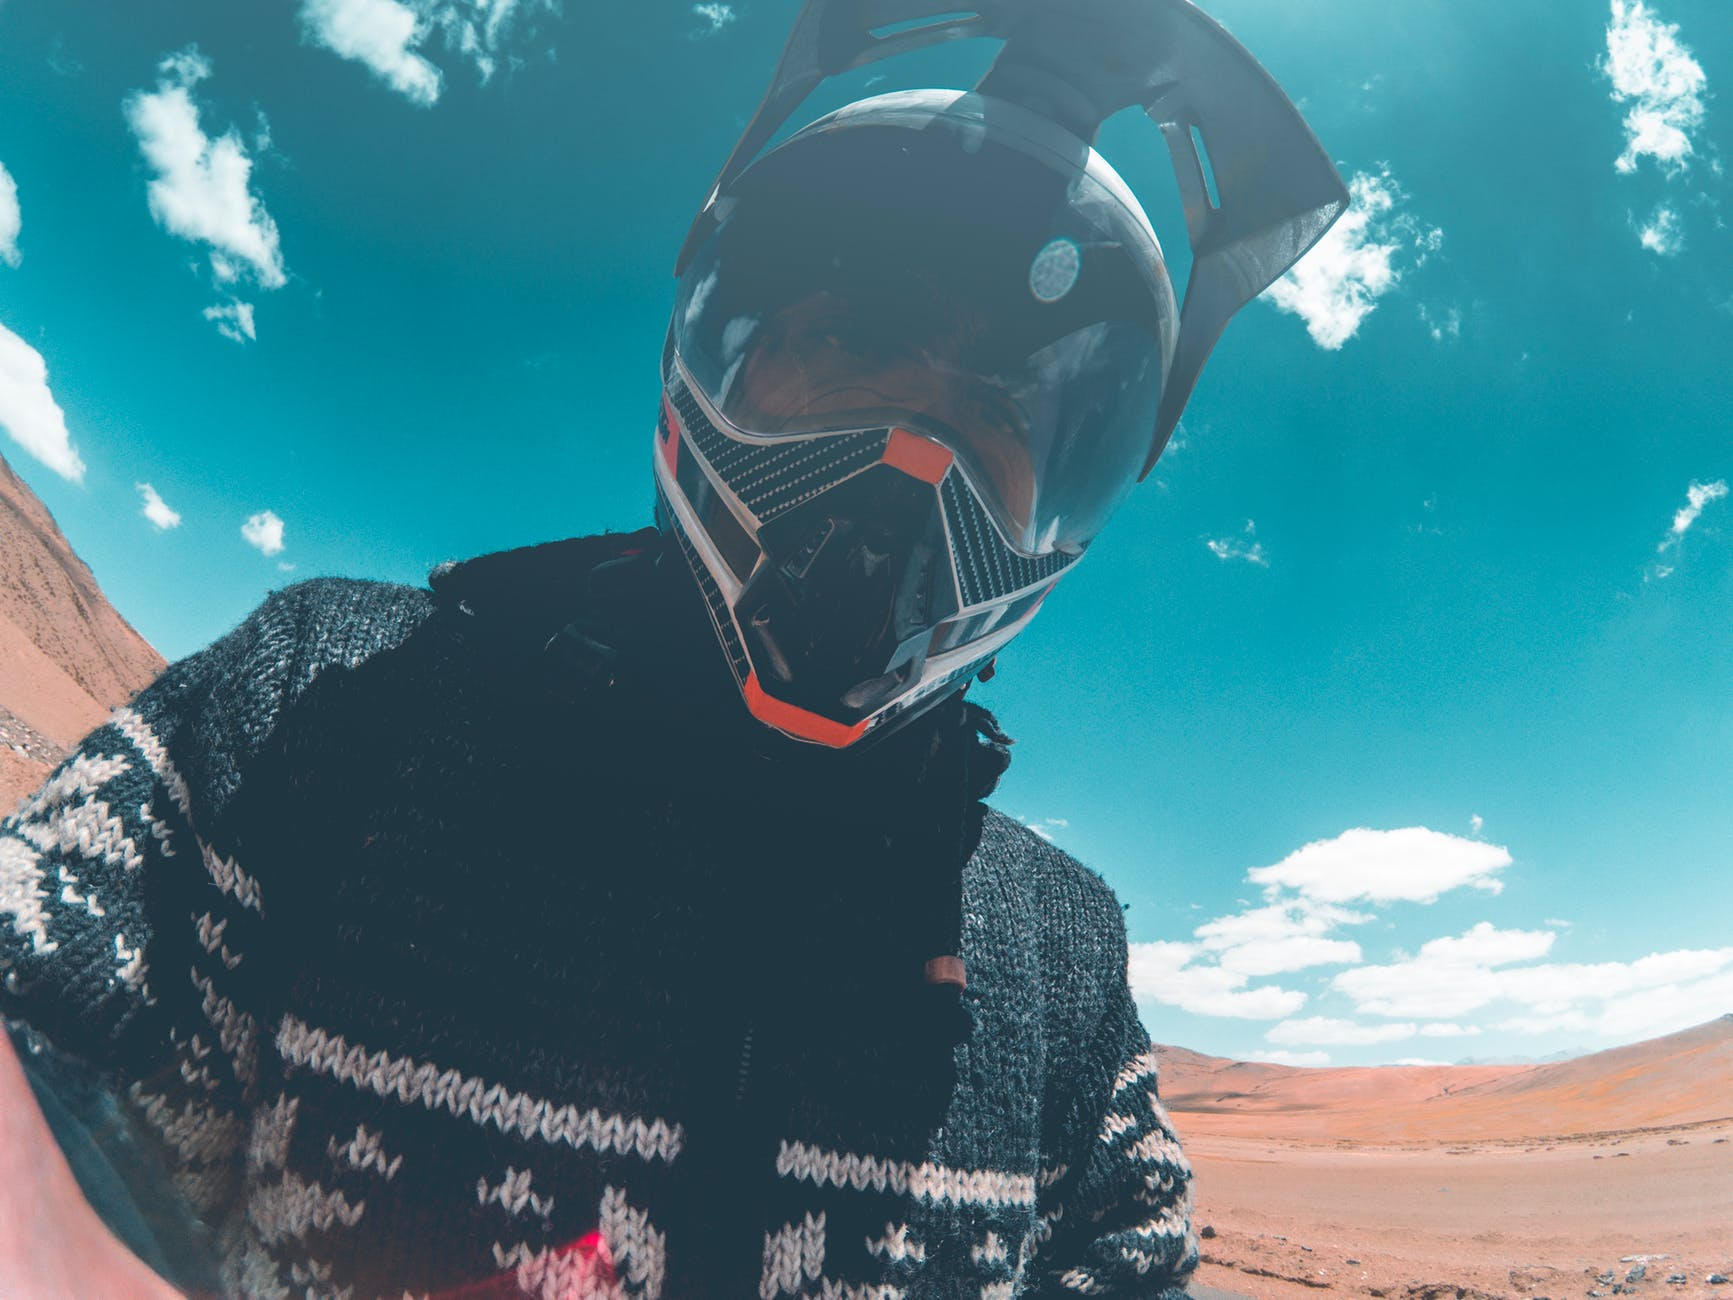helmet: (699, 61, 1187, 765)
